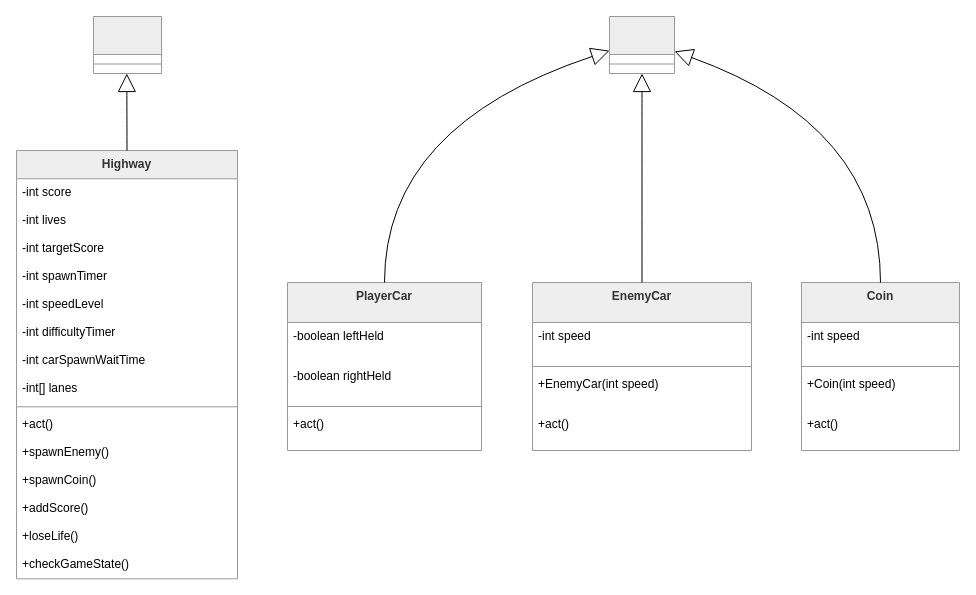
Image size: 976x595. Some labels were removed from this diagram. The shapes that lost their labels are listed below. From the top down, each one's box as (x1, y1, x2, y2) in pixels, then its label:
(92, 16, 162, 74): World
(608, 16, 674, 74): Actor
